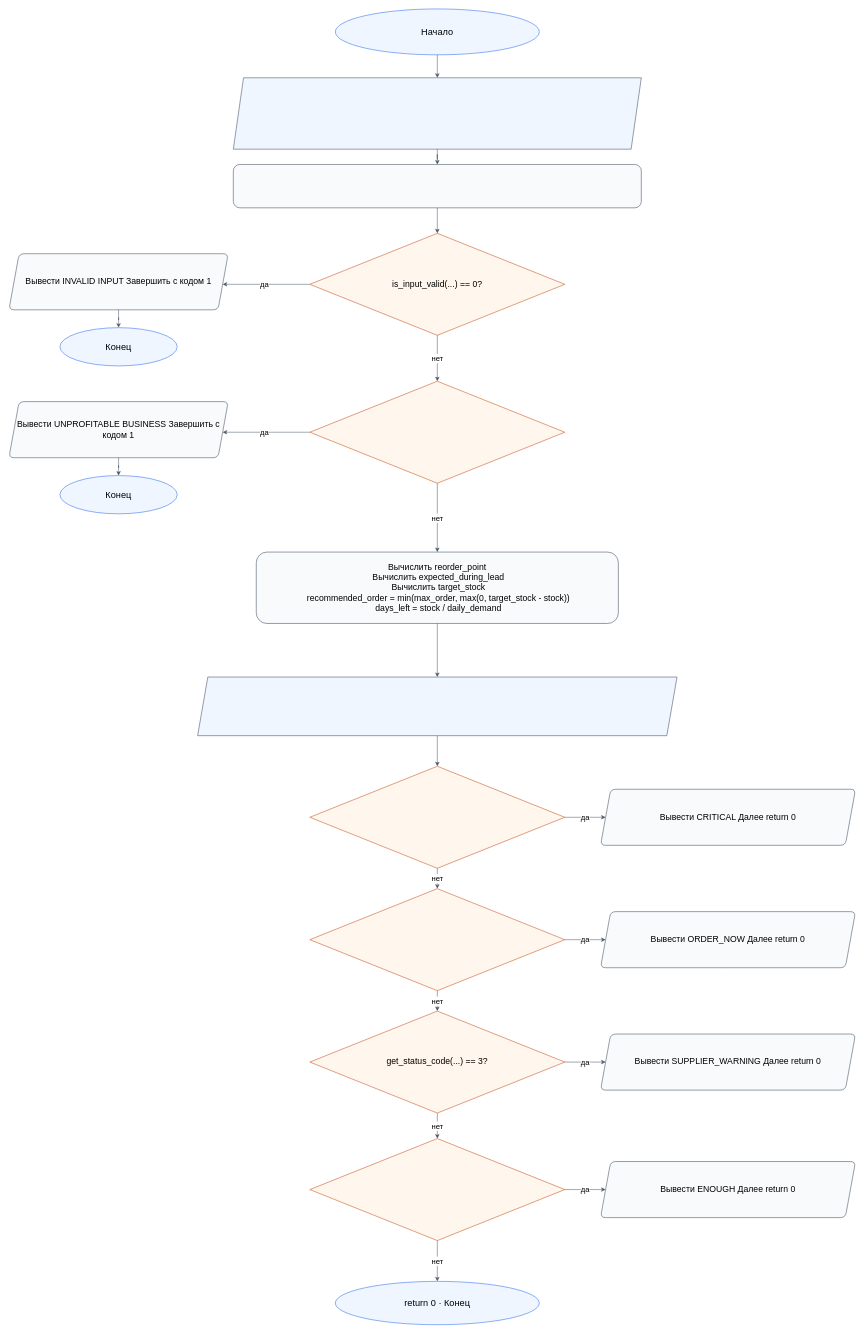
The diagram is 864 pixels wide and 1334 high, and some of its shapes have lost their labels. Here are the shapes that lost their labels. From the top down, the centre of each, then its label:
At point (437, 113): "Ввести stock, daily_demand, lead_days, safety_days, max_order, reliability".
At point (437, 186): "Напечатать заголовок отчёта".
At point (437, 432): "calculating_days_left(...) == 0?".
At point (437, 706): "Вывести пять расчётных значений Напечатать CONCLUSION:".
At point (437, 817): "get_status_code(...) == 1?".
At point (437, 939): "get_status_code(...) == 2?".
At point (437, 1189): "get_status_code(...) == 4?".
